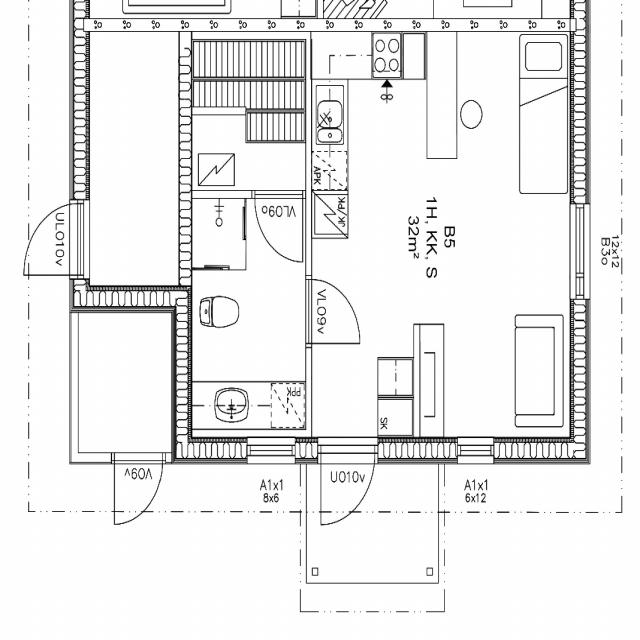door: (15, 204, 90, 275), (321, 437, 373, 535), (114, 452, 162, 530), (252, 191, 302, 264), (306, 280, 359, 343)
